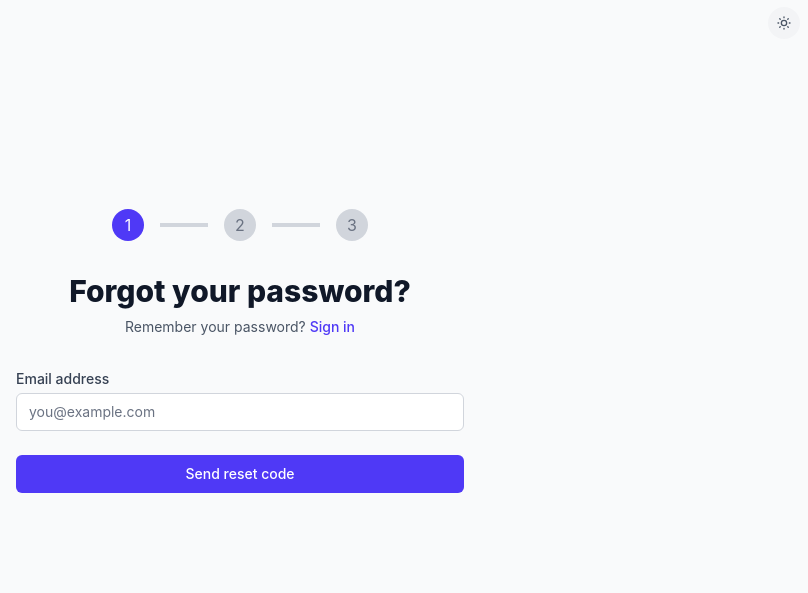
Test: ForgotPasswordPage › Step 1: Email › should send reset code on submit
In the field labelled "Email address": point(240, 412) left=16, top=393, right=464, bottom=431, type "test@example.com"
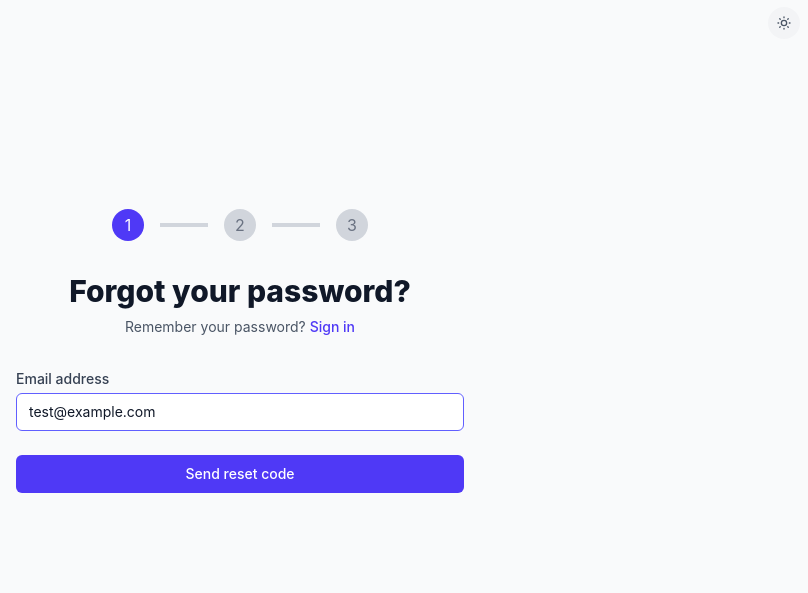
Click the button "Send reset code": point(240, 474) left=16, top=455, right=464, bottom=493
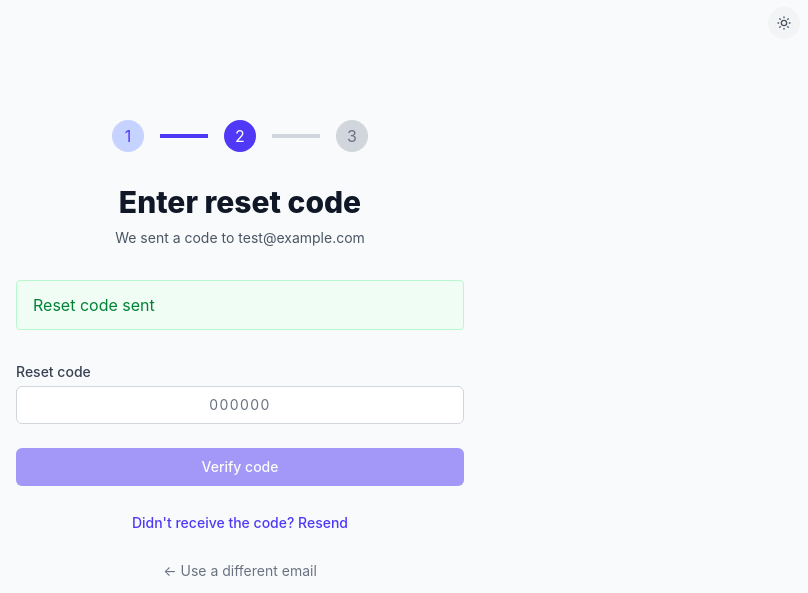
Result: the text "Reset code sent" is shown at left=16, top=280, right=464, bottom=330
Result: the heading "Enter reset code" is shown at left=119, top=184, right=361, bottom=220
